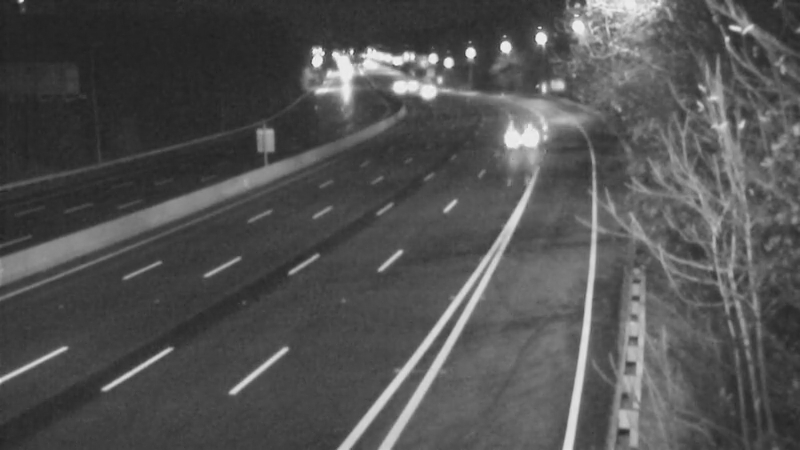vehicle: (385, 59, 435, 109), (370, 61, 420, 111), (404, 66, 454, 116), (498, 100, 548, 150)
